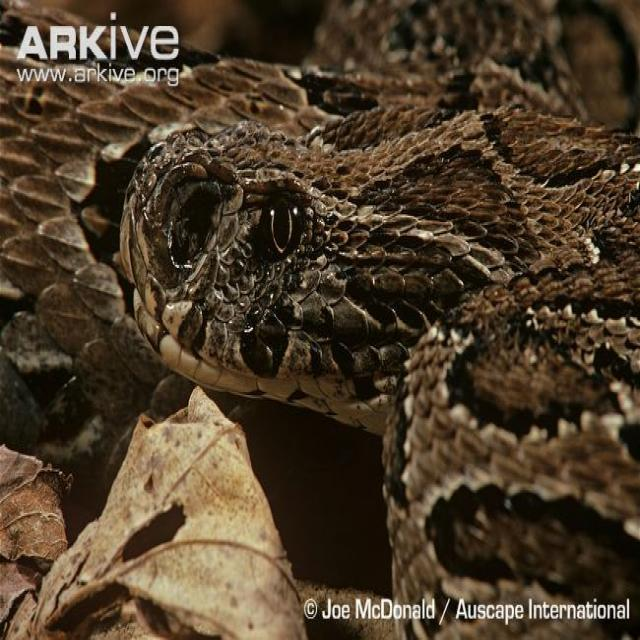Snake: (1, 0, 638, 637)
